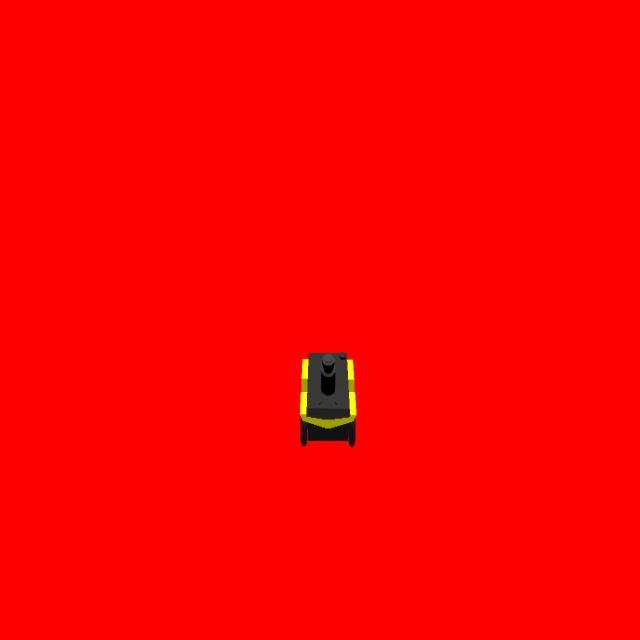jackal: (297, 341, 359, 451)
